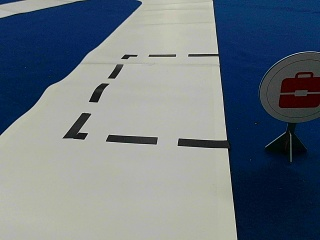company: (260, 52, 318, 121)
